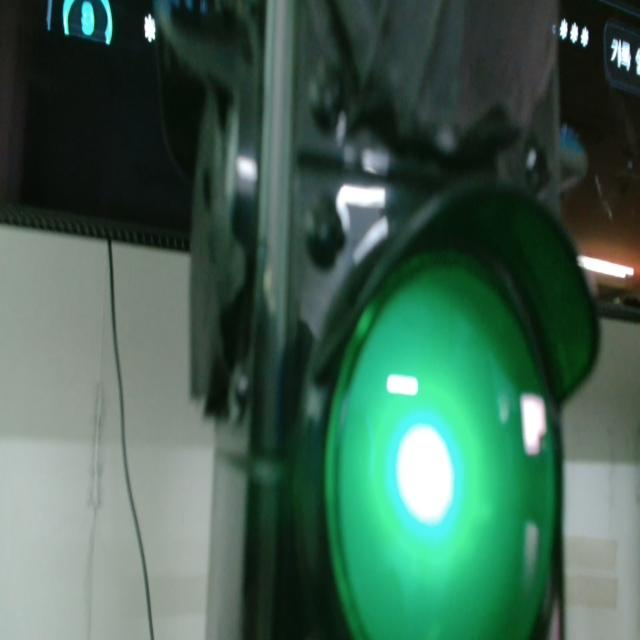green_light: (325, 254, 557, 639), (397, 425, 454, 525)
